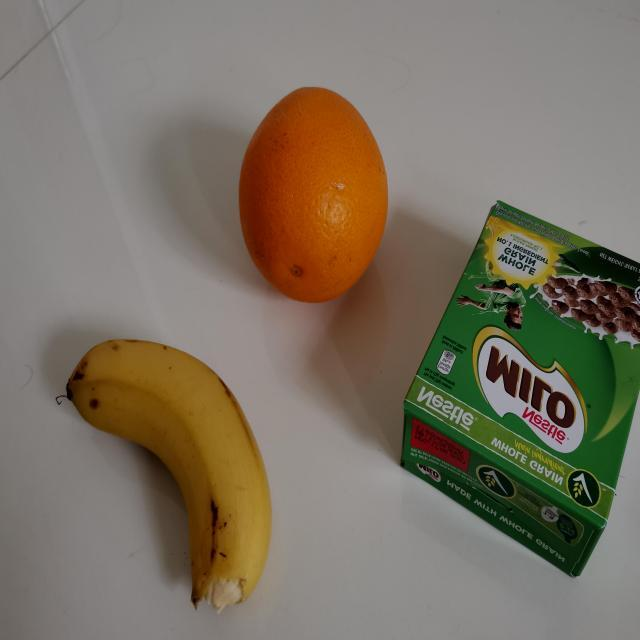Banana: (54, 332, 278, 616)
Cerealbox: (395, 196, 640, 582)
Orange: (237, 84, 392, 306)
